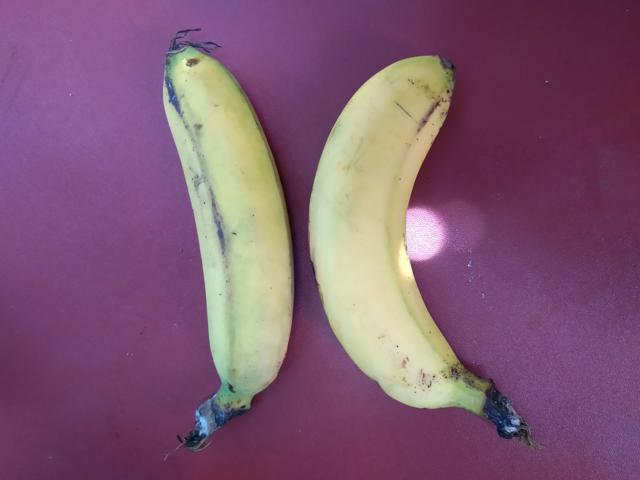freshripe: (305, 42, 532, 424)
ripe: (130, 36, 303, 425)
